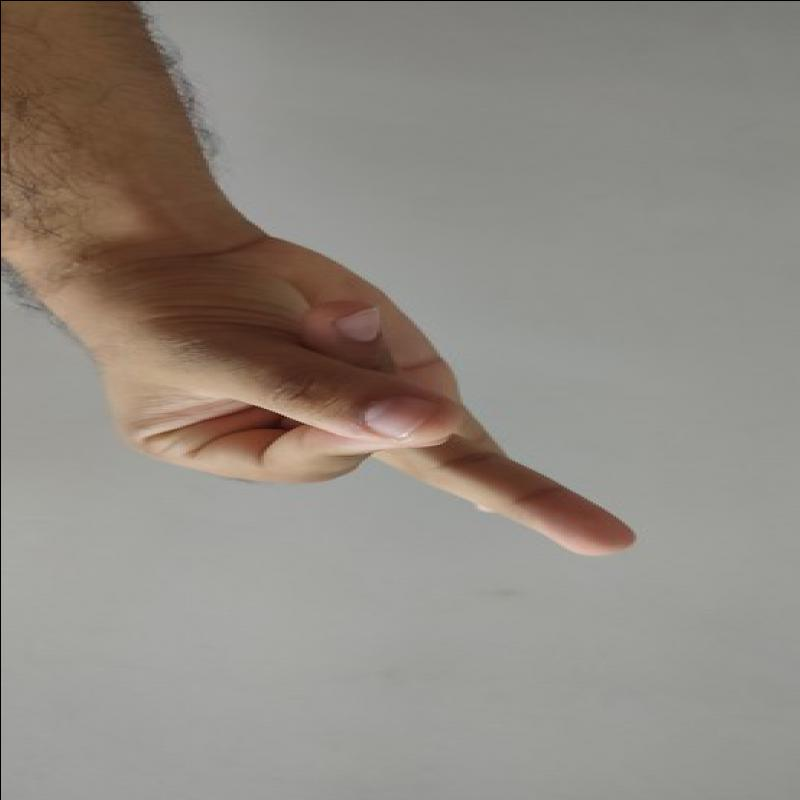Katakam: (79, 234, 656, 569)
